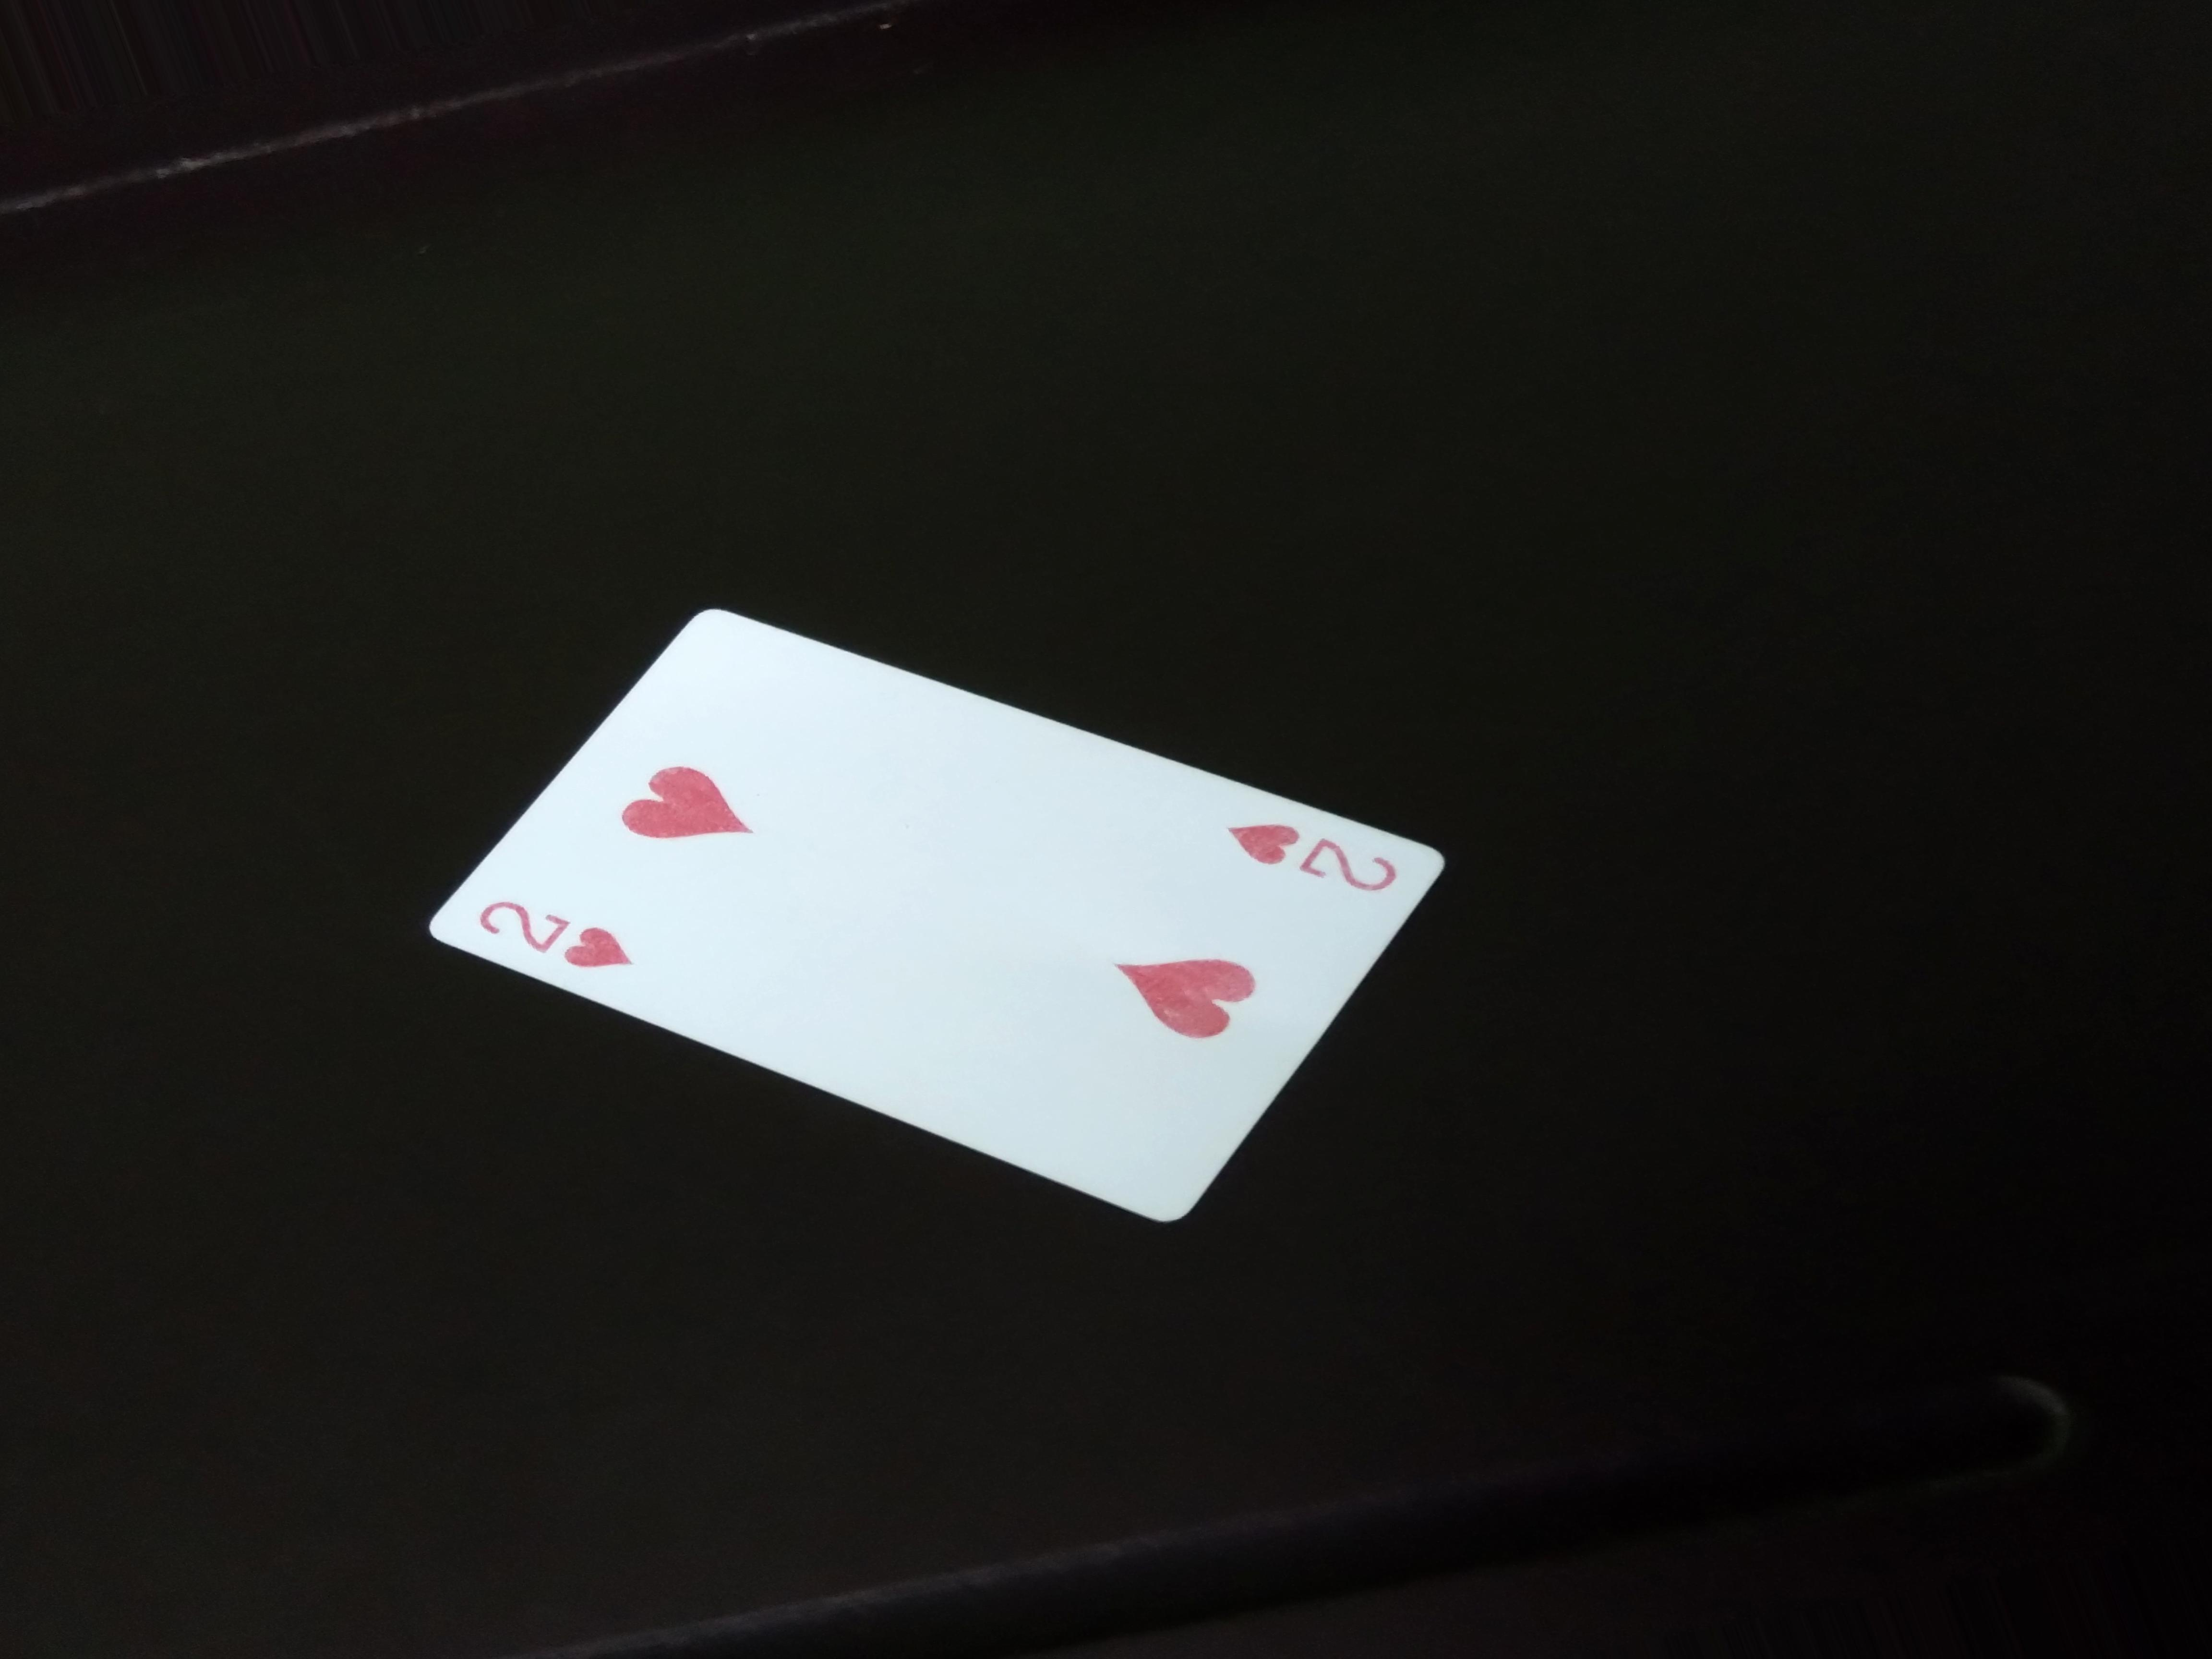2H: (1186, 793, 1411, 910)
